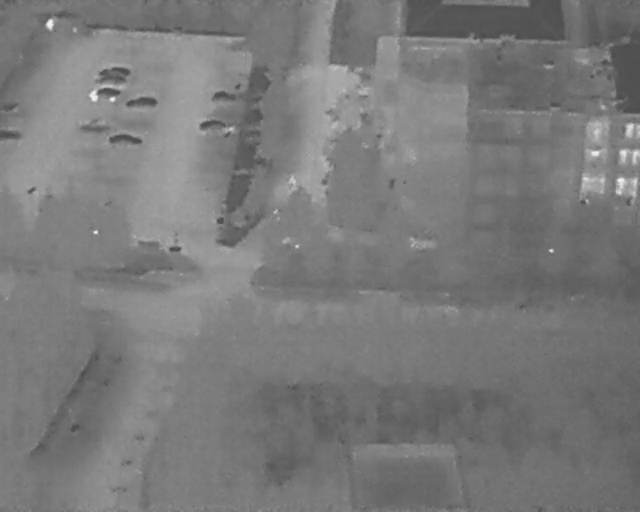Car: (90, 88, 121, 103), (109, 134, 143, 147), (126, 96, 158, 109), (199, 119, 227, 133), (100, 67, 132, 79), (95, 76, 127, 87), (211, 90, 237, 103)
